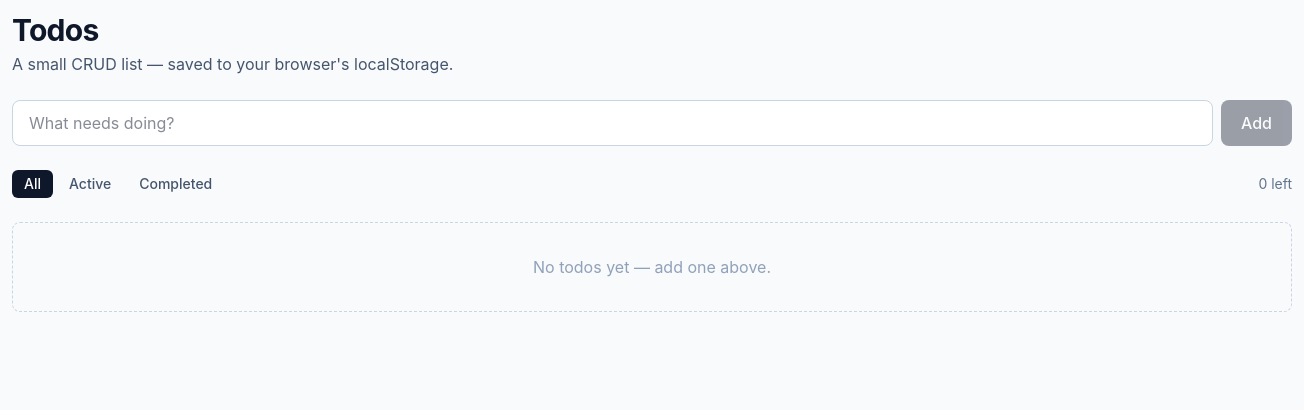
Test: <Todos /> › clears completed todos
Type "Keep me" into the field with placeholder "What needs doing?" at point(612, 123), box [12,100,1213,146]
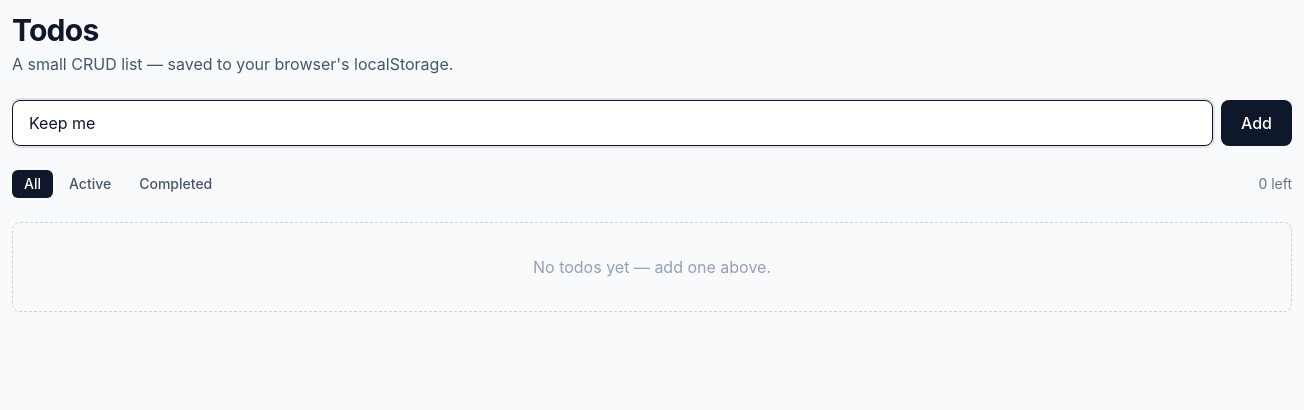
Click the button "Add" at point(1256, 123), box [1221,100,1292,146]
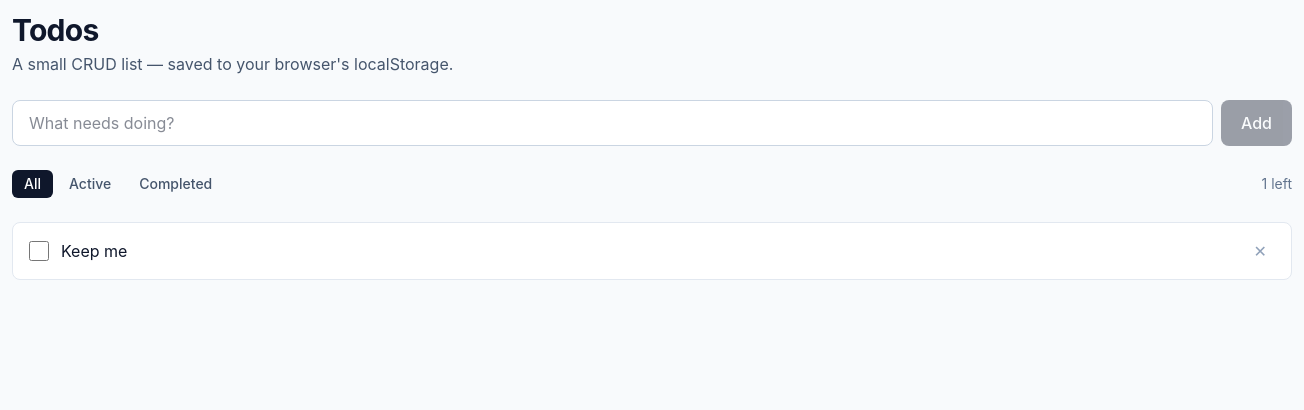
Type "Remove me" into the field with placeholder "What needs doing?" at point(612, 123), box [12,100,1213,146]
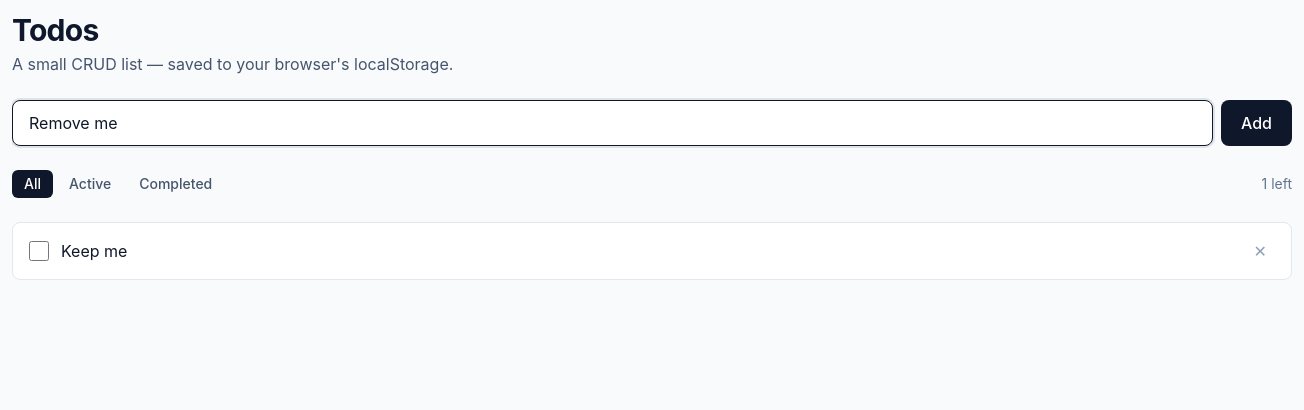
Click the button "Add" at point(1256, 123), box [1221,100,1292,146]
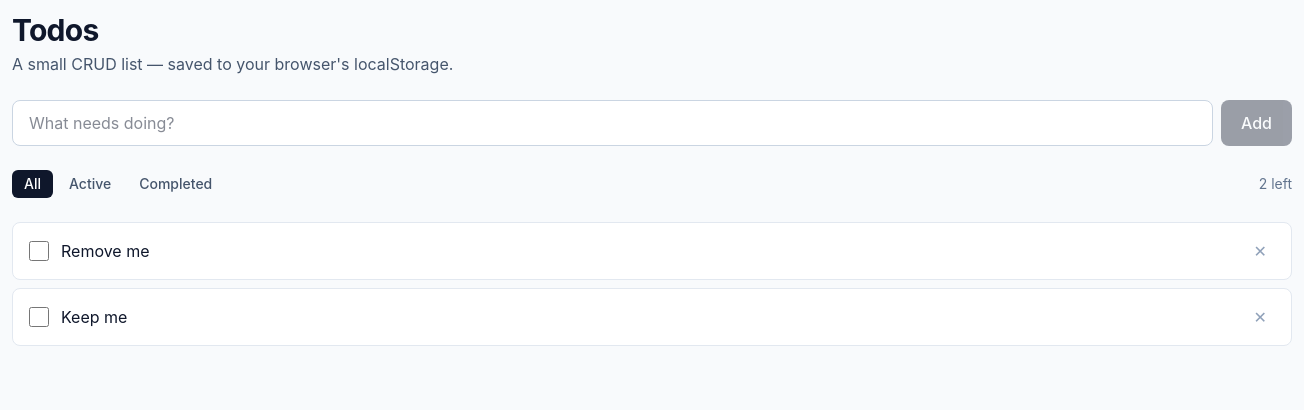
Click the checkbox next to "Remove me" at point(39, 251), box [29,241,49,261]
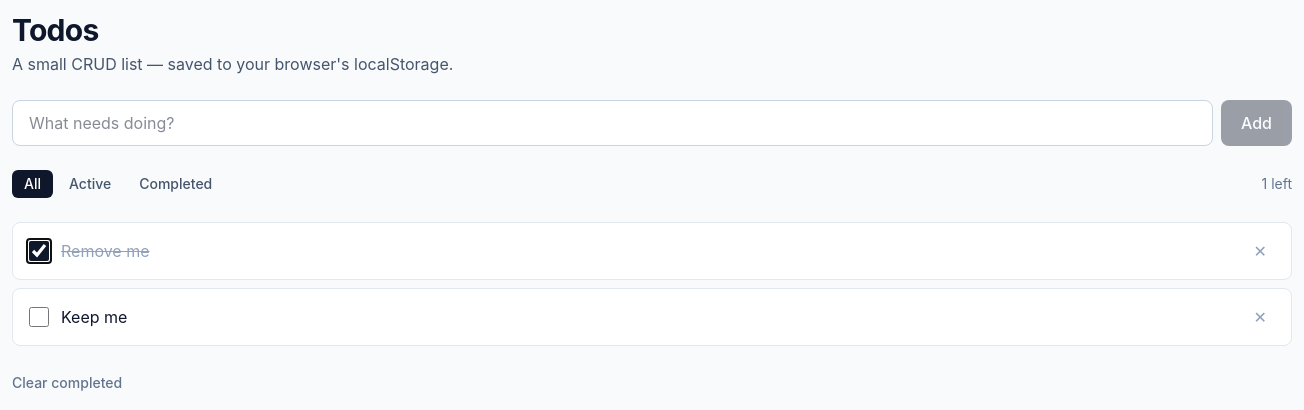
Click the button "Clear completed" at point(67, 383), box [12,373,122,393]
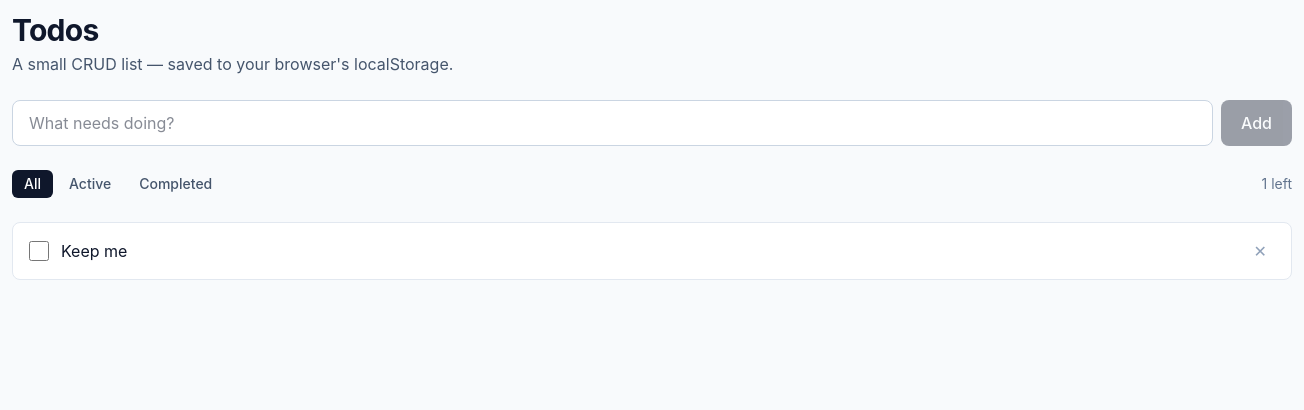
Now the text "Keep me" is shown, box [61,241,127,261]
Now the text "Remove me" is gone
